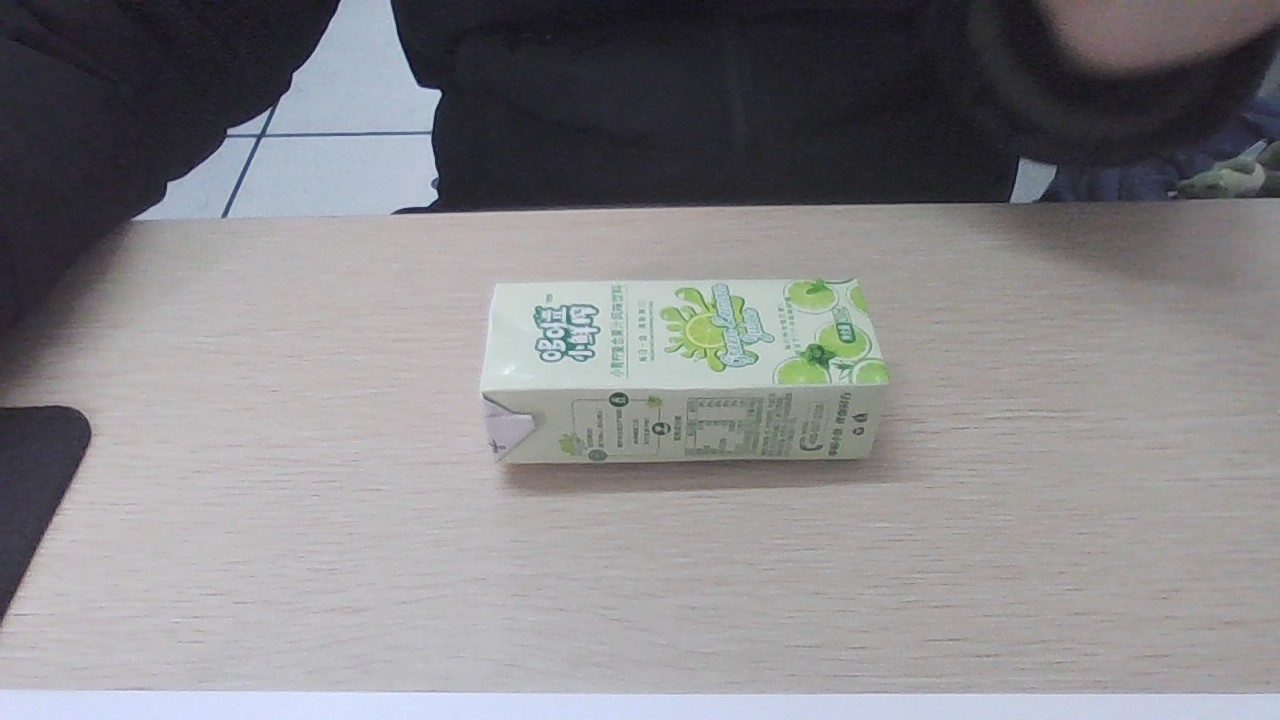CY-drink: (473, 277, 880, 471)
